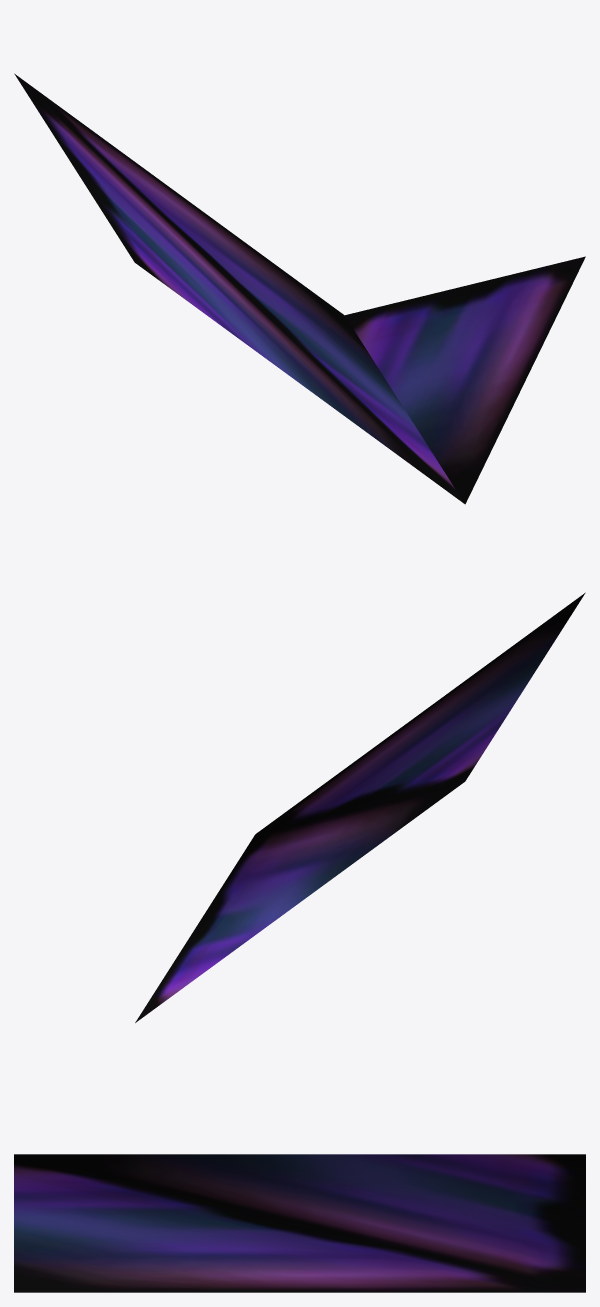
3 renders of one model, top to bottom at view 1: azimuth 30°, elevation 25°; view 2: azimuth 150°, elevation 25°; view 3: azimuth 270°, elevation 25°, orthographic. The views are drawn at different scales.
Parts seen in each view (by area): view 1: model_Object92; view 2: model_Object92; view 3: model_Object92.
Boxes of the visible parts, box(x1,y1,x2,y2) form: model_Object92: box(14, 73, 585, 504); model_Object92: box(135, 592, 585, 1022); model_Object92: box(14, 1154, 585, 1292).
Size of the model in its own units: 0.976 by 0.8452 by 2.32.
Materials: 1 (1 with a texture image).
